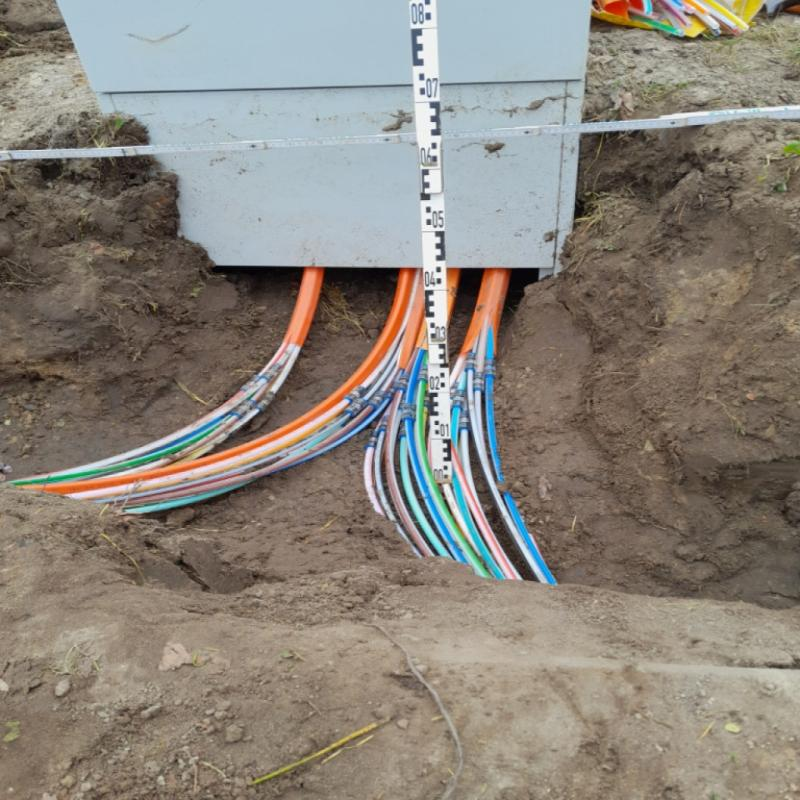NT-Gehause: (56, 0, 594, 267)
Orang-Speednetrohrchen: (22, 267, 515, 513)
